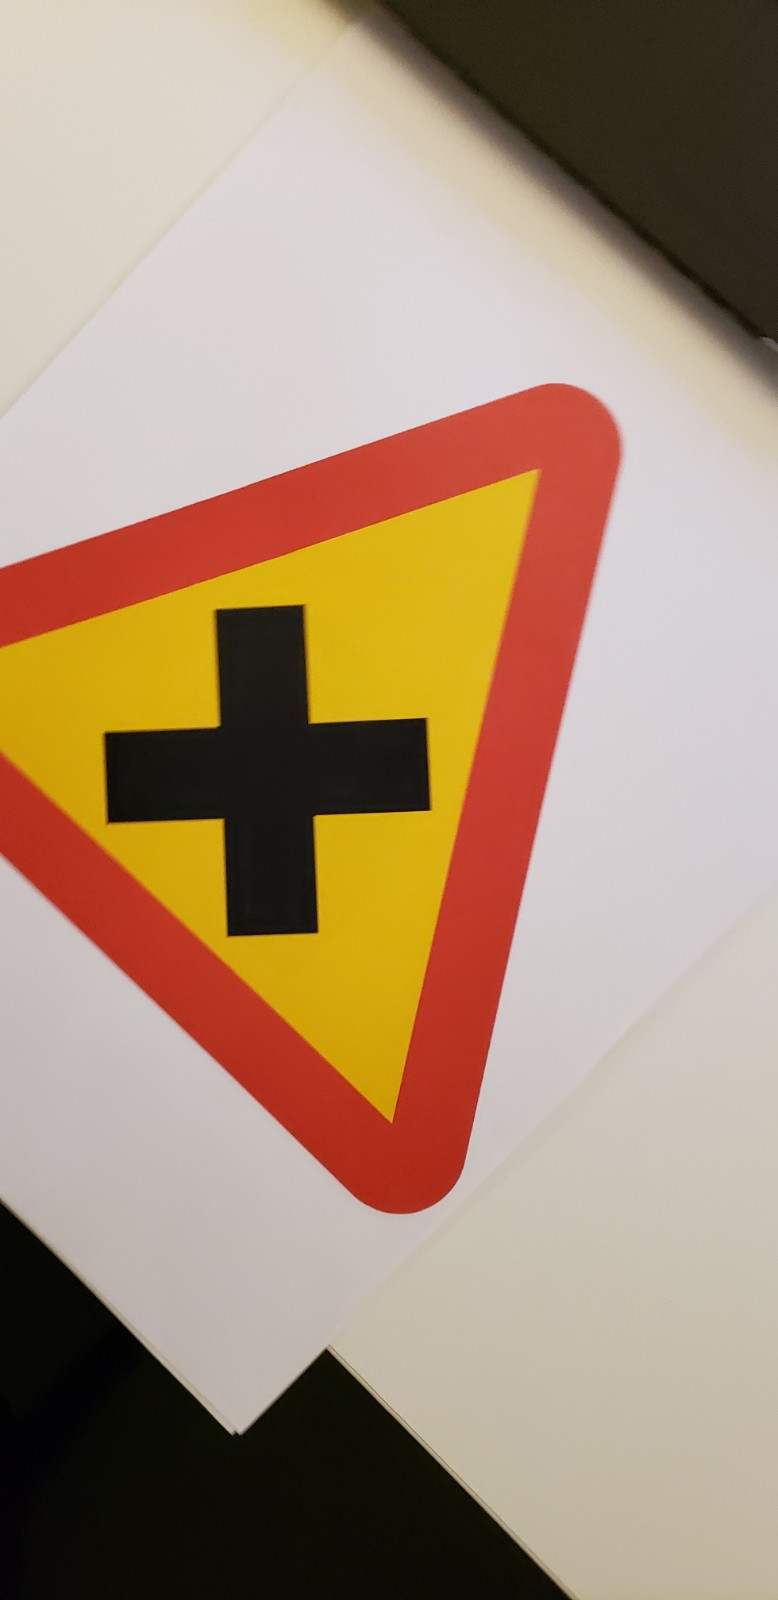junction: (10, 372, 676, 1231)
